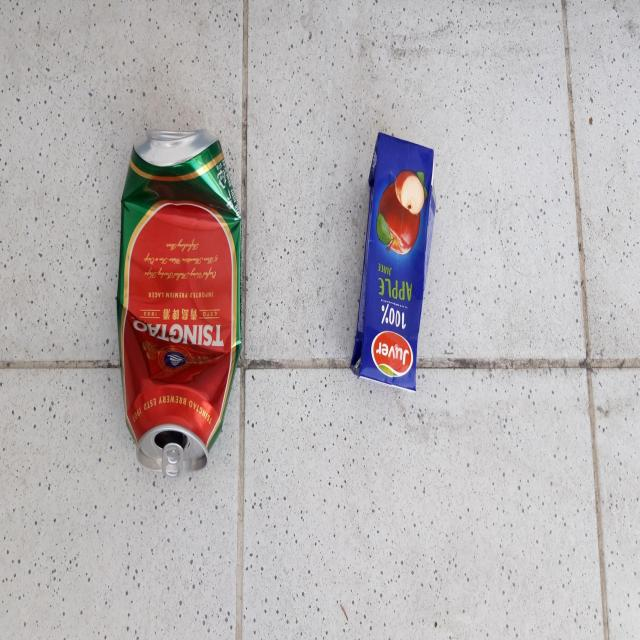can: (116, 129, 241, 478)
paperpack: (350, 132, 436, 390)
